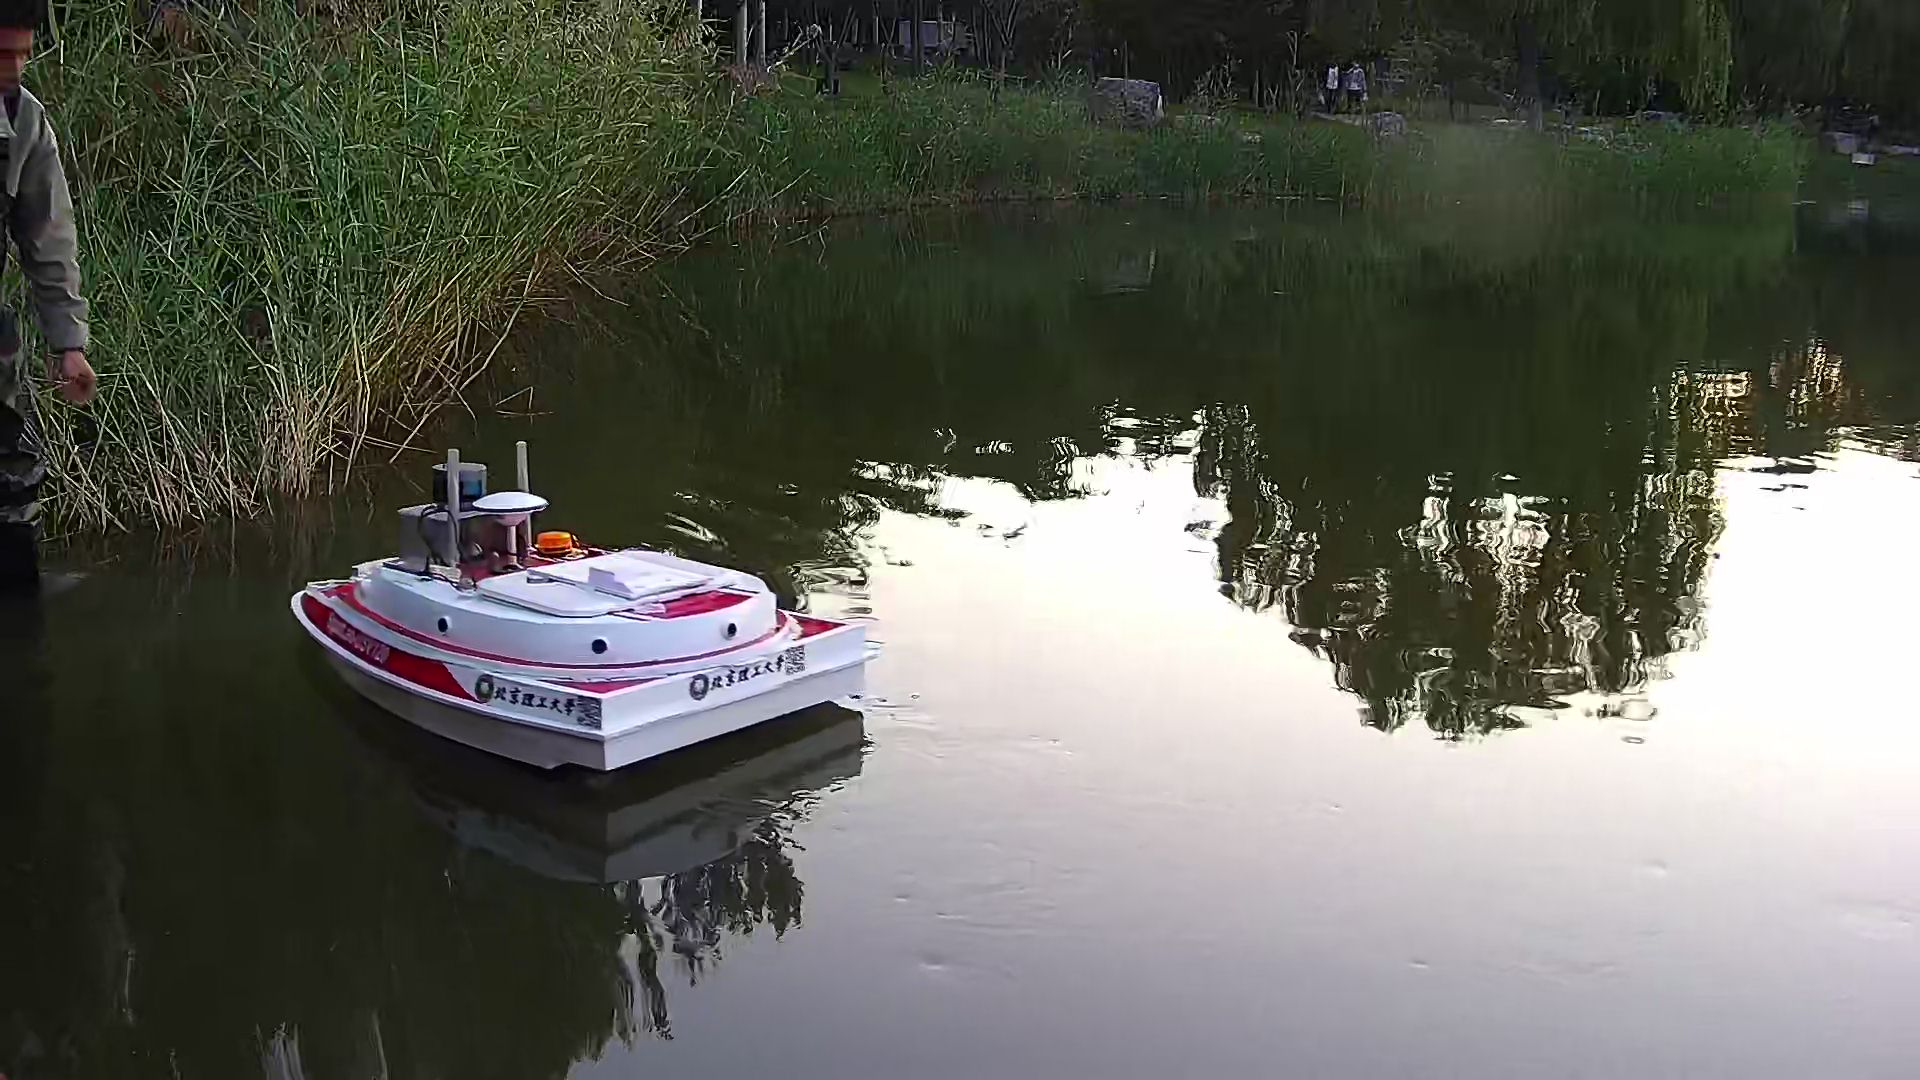boat: (289, 451, 887, 787)
